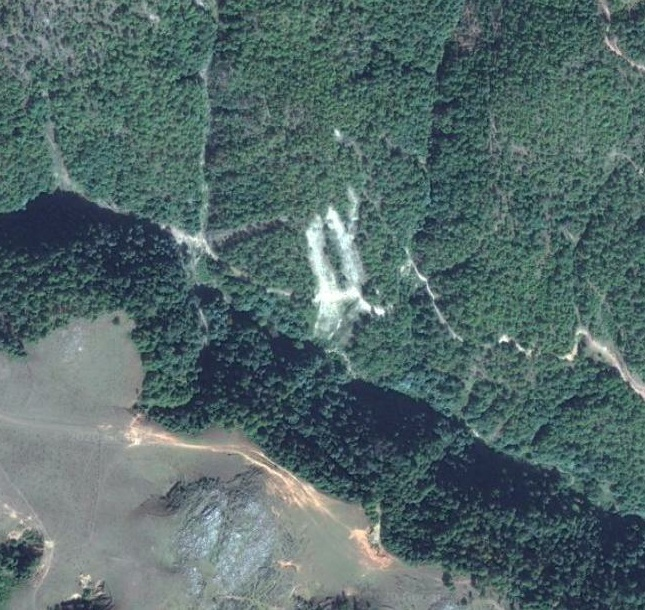slope: (157, 461, 332, 607), (296, 181, 385, 350), (121, 410, 178, 447), (352, 521, 392, 571)
